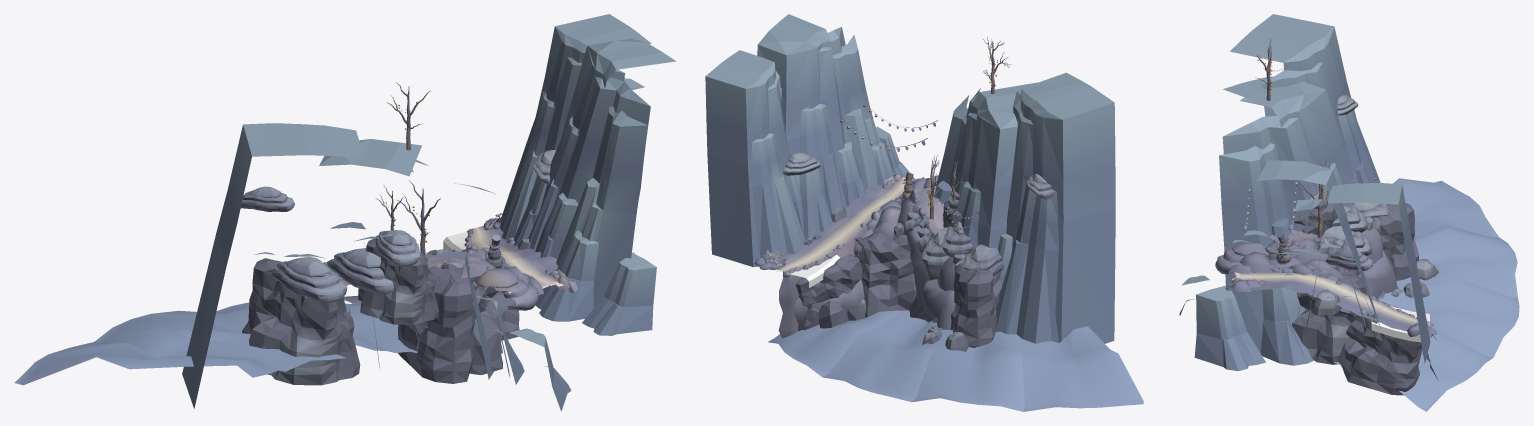
File: Arctic_Narrows_Left_End_A.glb
3 views of the same model, side by side, from view 1: azimuth 30°, elevation 25°; view 2: azimuth 150°, elevation 25°; view 3: azimuth 270°, elevation 25° (orthographic). The views are drawn at different scales.
Visible parts, largest first — view 1: Arctic_Narrows_Left_End_A, Arctic_Narrows_Left_IceWall_A02 (1), Arctic_Narrows_Right_IceWall_A02 (1), Arctic_Narrows_Big_Rock_A01_Mid (×3), Arctic_Narrows_Big_Rock_A01_Top (×3), Arctic_Narrows_Left_IceWall_A01 (1), Arctic_Narrows_Left_IceWall_A02_Mid, Arctic_Narrows_Left_IceWall_A02_Right, Arctic_Narrows_Big_Rock_A01 (4), Arctic_Narrows_Right_IceWall_A01 (1), Arctic_Narrows_Big_Rock_A01 (6), Arctic_Narrows_Left_IceWall_A01_Left (+7 smaller); view 2: Arctic_Narrows_Left_End_A, Arctic_Narrows_Right_IceWall_A02 (1), Arctic_Narrows_Left_IceWall_A01 (1), Arctic_Narrows_Left_IceWall_A02 (1), Arctic_Narrows_Right_IceWall_A01 (1), Arctic_Narrows_Right_IceWall_A02_Right, Arctic_Narrows_Left_IceWall_A01_Left, Arctic_Narrows_Left_IceWall_A02_Left, Arctic_Narrows_Big_Rock_A01_Top (×3), Arctic_Narrows_Big_Rock_A01_Mid (×3), Arctic_Narrows_Left_IceWall_A02_Mid, Arctic_Narrows_Right_IceWall_A01_Mid (+7 smaller); view 3: Arctic_Narrows_Left_End_A, Arctic_Narrows_Right_IceWall_A01 (1), Arctic_Narrows_Right_IceWall_A01_Left, Arctic_Narrows_Right_IceWall_A02 (1), Arctic_Narrows_Big_Rock_A01_Mid (×3), Arctic_Narrows_Left_IceWall_A01 (1), Arctic_Narrows_Big_Rock_A01_Top (×4), Arctic_Narrows_Left_IceWall_A02 (1), Arctic_Narrows_Big_Rock_A01 (5), Arctic_Narrows_Right_IceWall_A02_Right, Arctic_Narrows_Big_Rock_A01 (4), Arctic_Narrows_Right_Rock_A02 (1) (+3 smaller).
Boxes of the visible parts, x1,y1,x2,y2 form: Arctic_Narrows_Left_End_A: (14, 217, 577, 385); Arctic_Narrows_Left_IceWall_A02 (1): (556, 38, 676, 308); Arctic_Narrows_Right_IceWall_A02 (1): (182, 123, 413, 408); Arctic_Narrows_Big_Rock_A01_Mid (×3): (248, 266, 497, 355); Arctic_Narrows_Big_Rock_A01_Top (×3): (252, 238, 485, 320); Arctic_Narrows_Left_IceWall_A01 (1): (536, 14, 651, 151); Arctic_Narrows_Left_IceWall_A02_Mid: (535, 193, 598, 321); Arctic_Narrows_Left_IceWall_A02_Right: (582, 252, 656, 335); Arctic_Narrows_Big_Rock_A01 (4): (398, 314, 502, 383); Arctic_Narrows_Right_IceWall_A01 (1): (319, 139, 509, 379); Arctic_Narrows_Big_Rock_A01 (6): (242, 321, 360, 385); Arctic_Narrows_Left_IceWall_A01_Left: (500, 91, 554, 239); Arctic_Narrows_Left_End_A: (755, 174, 1143, 411); Arctic_Narrows_Right_IceWall_A02 (1): (1006, 72, 1115, 343); Arctic_Narrows_Left_IceWall_A01 (1): (705, 50, 789, 267); Arctic_Narrows_Left_IceWall_A02 (1): (757, 14, 880, 187); Arctic_Narrows_Right_IceWall_A01 (1): (934, 82, 1036, 248); Arctic_Narrows_Right_IceWall_A02_Right: (995, 183, 1058, 343); Arctic_Narrows_Left_IceWall_A01_Left: (751, 133, 804, 257); Arctic_Narrows_Left_IceWall_A02_Left: (798, 103, 846, 239); Arctic_Narrows_Big_Rock_A01_Top (×3): (795, 232, 1002, 301); Arctic_Narrows_Big_Rock_A01_Mid (×3): (799, 256, 1001, 329); Arctic_Narrows_Left_IceWall_A02_Mid: (837, 142, 895, 206); Arctic_Narrows_Right_IceWall_A01_Mid: (957, 181, 980, 253); Arctic_Narrows_Left_End_A: (1215, 178, 1519, 411); Arctic_Narrows_Right_IceWall_A01 (1): (1219, 76, 1355, 352); Arctic_Narrows_Right_IceWall_A01_Left: (1194, 285, 1313, 371); Arctic_Narrows_Right_IceWall_A02 (1): (1230, 14, 1356, 171); Arctic_Narrows_Big_Rock_A01_Mid (×3): (1297, 227, 1422, 373); Arctic_Narrows_Left_IceWall_A01 (1): (1295, 183, 1430, 363); Arctic_Narrows_Big_Rock_A01_Top (×4): (1292, 203, 1421, 350); Arctic_Narrows_Left_IceWall_A02 (1): (1232, 160, 1380, 328); Arctic_Narrows_Big_Rock_A01 (5): (1337, 347, 1419, 395); Arctic_Narrows_Right_IceWall_A02_Right: (1338, 95, 1380, 183); Arctic_Narrows_Big_Rock_A01 (4): (1292, 316, 1349, 364); Arctic_Narrows_Right_Rock_A02 (1): (1311, 289, 1341, 315).
Size of the model in its own units: 41.35 by 24.8 by 26.21.
